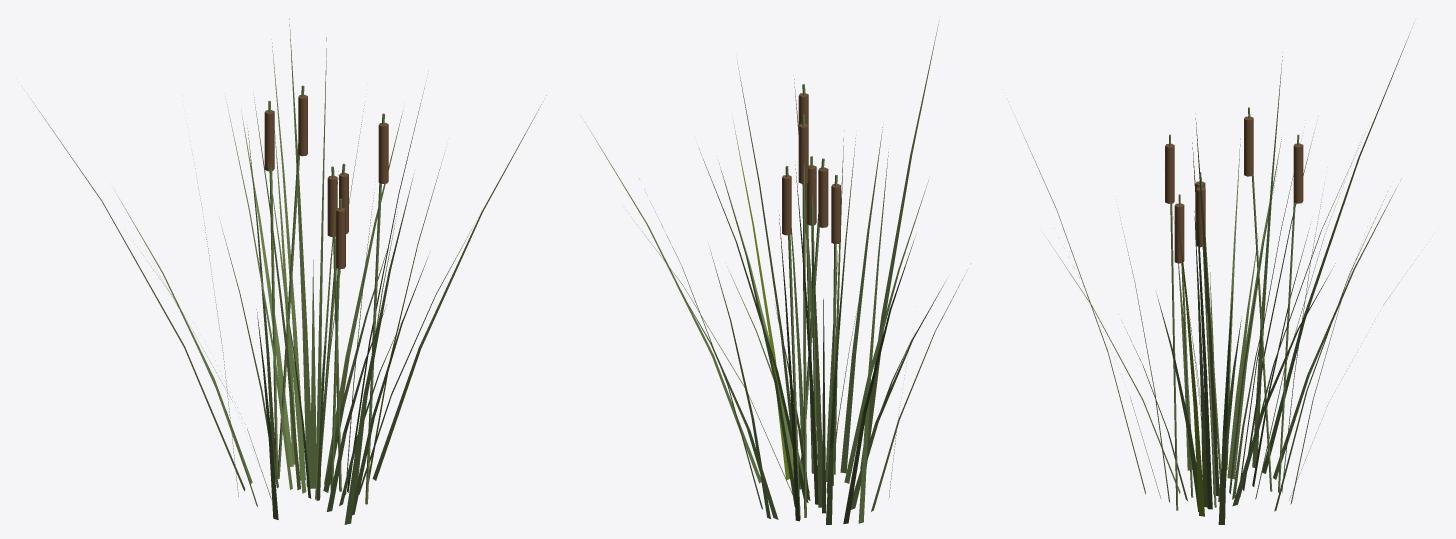
The model's file is reeds_1.glb.
3 renders of one model, left to right at view 1: azimuth 30°, elevation 25°; view 2: azimuth 150°, elevation 25°; view 3: azimuth 270°, elevation 25°, orthographic. The views are drawn at different scales.
Visible parts, largest first — view 1: reeds_1; view 2: reeds_1; view 3: reeds_1.
Part boxes in pixels (x1,y1,x2,y2): reeds_1: [30, 18, 546, 524]; reeds_1: [581, 22, 967, 524]; reeds_1: [1014, 27, 1412, 524].
Bounding box in the file's own units: 2.17 × 1.96 × 1.91.
